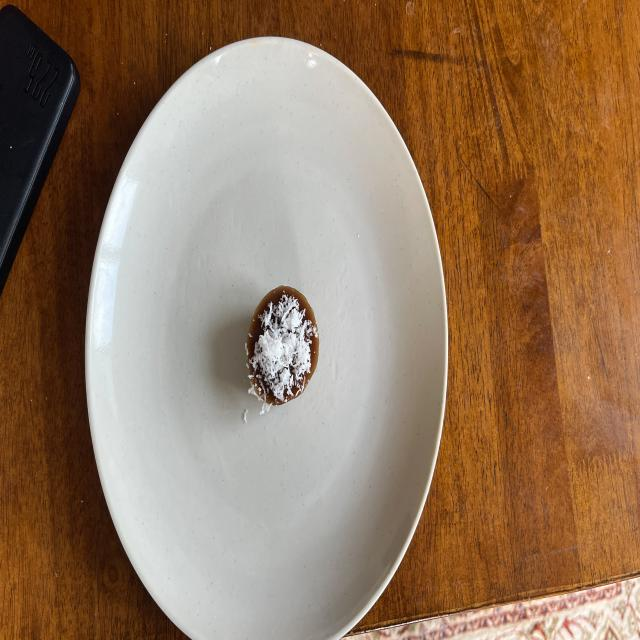Kuih lompang: (246, 287, 319, 404)
